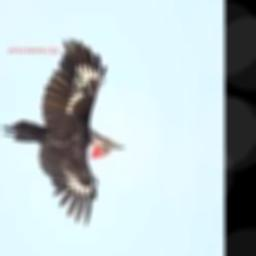Woodpecker: (1, 41, 123, 228)
